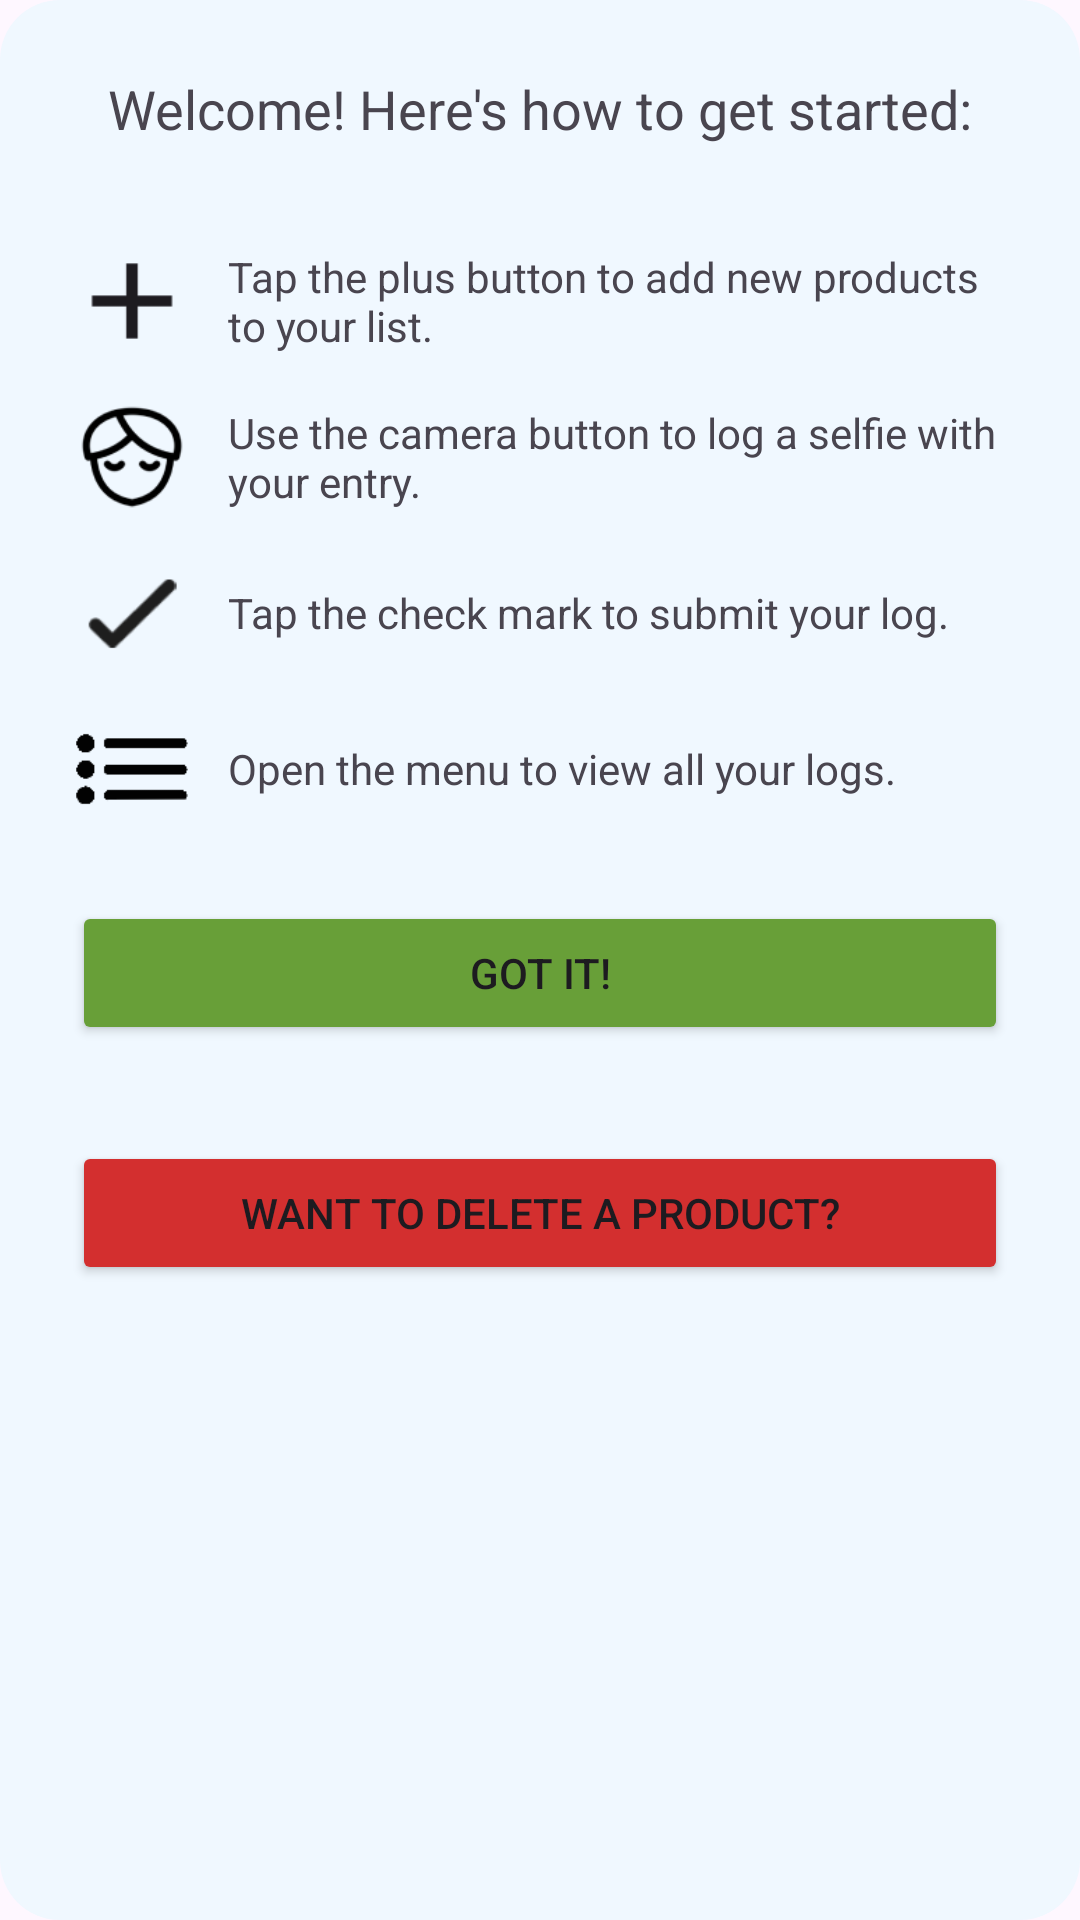

Screen size 1080 × 1920. Icon name, then its box in pixels as (x1, y1, x2, y2):
menubutton: (76, 734, 188, 804)
